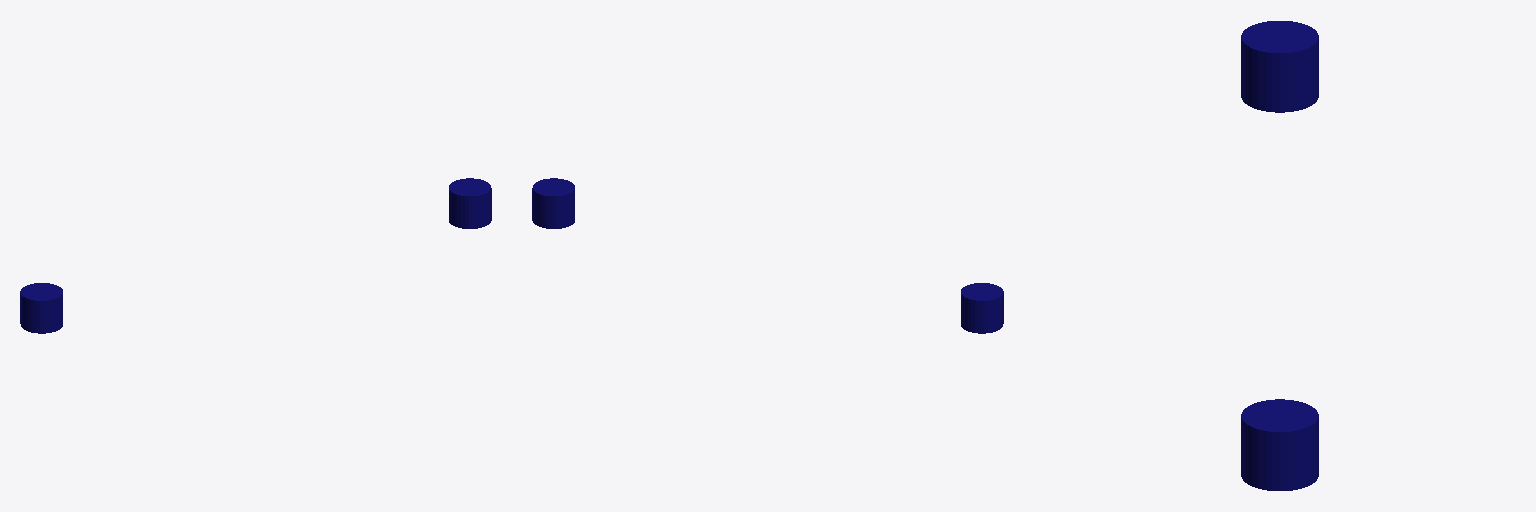
The robot description file, URDF, robot "lexus_rx_450h":
<?xml version="1.0" ?>
<!-- TODO: Add GPS sensor -->
<robot name="lexus_rx_450h">
  <material name="black">
    <color rgba="0.2 0.2 0.2 1"/>
  </material>
  <material name="blue">
    <color rgba="0.1 0.1 0.5 1"/>
  </material>

  <!-- base_link relates to its projection on the ground by this offset:
    <origin xyz="0 0 0.31" rpy="0 0 0"/>
  -->


  <link name="base_link">
    <visual>
      <geometry>
        <mesh filename="package://lexus_rx_450h_description/meshes/LexusRX.obj" scale="0.001 0.001 0.001"/>
      </geometry>
      <material name="black"/>
      <origin xyz="0.83 0 0.31" rpy="0 0 1.570796"/>
    </visual>
    <collision>
      <geometry>
        <box size="5.5 2.25 2"/>
      </geometry>
      <origin xyz="0.83 0 0.31" rpy="0 0 0"/>
    </collision>
    <inertial>
      <!-- TODO: Get or calculate inertia values -->
      <origin xyz="0 0 0.013" rpy="0 0 0"/>
      <mass value="0.25"/>
      <inertia ixx="0.0003350833" ixy="0" ixz="0"
        iyy="0.000560417" iyz="0"
        izz="0.000478833"/>
    </inertial>
  </link>

  <!-- Center of Gravity link -->
  <link name="nav_base">
  </link>

  <joint name="nav_base_joint" type="fixed">
    <parent link="base_link"/>
    <child link="nav_base"/>
    <origin xyz="1.5618 0 0" rpy="0 0 0"/>
  </joint>

  <link name="lidar_front">
    <visual>
      <geometry>
        <cylinder length="0.0869" radius="0.05165"/>
      </geometry>
      <material name="blue"/>
    </visual>
    <collision>
      <geometry>
        <cylinder length="0.0869" radius="0.05165"/>
      </geometry>
    </collision>
    <inertial>
      <!-- TODO: Get or calculate inertia values -->
      <mass value="0.1"/>
      <inertia ixx="1.02083e-5" ixy="0" ixz="0"
        iyy="1.02083e-5" iyz="0"
        izz="2e-5"/>
    </inertial>
  </link>

  <joint name="lidar_front_joint" type="fixed">
    <parent link="base_link"/>
    <child link="lidar_front"/>
    <origin xyz="1.498 -0.022 1.49" rpy="0 0 0"/>
  </joint>

  <link name="lidar_rear">
    <visual>
      <geometry>
        <cylinder length="0.0869" radius="0.05165"/>
      </geometry>
      <material name="blue"/>
    </visual>
    <collision>
      <geometry>
        <cylinder length="0.0869" radius="0.05165"/>
      </geometry>
    </collision>
    <inertial>
      <!-- TODO: Get or calculate inertia values -->
      <mass value="0.1"/>
      <inertia ixx="1.02083e-5" ixy="0" ixz="0"
        iyy="1.02083e-5" iyz="0"
        izz="2e-5"/>
    </inertial>
  </link>

  <joint name="lidar_rear_joint" type="fixed">
    <parent link="base_link"/>
    <child link="lidar_rear"/>
    <origin xyz="0.308 -0.022 1.49" rpy="0 0 0"/>
  </joint>
</robot>

--- Render facts (derived) ---
The picture shows the robot from 3 angles, left to right: view 1: azimuth 30°, elevation 25°; view 2: azimuth 150°, elevation 25°; view 3: azimuth 270°, elevation 25°; orthographic projection.
Robot: lexus_rx_450h — 4 links, 3 joints (3 fixed); root link base_link; default pose: every joint at zero.
Links seen in each view (by area): view 1: lidar_front, lidar_rear; view 2: lidar_front, lidar_rear; view 3: lidar_front, lidar_rear.
Link boxes in pixels (x1,y1,x2,y2): lidar_front: (449,178,491,228); lidar_rear: (20,283,62,333); lidar_front: (532,178,574,228); lidar_rear: (961,283,1003,333); lidar_front: (1241,399,1318,490); lidar_rear: (1241,21,1318,112).
Bounding box of the posed robot: 1.29 × 0.1033 × 0.0869 m (x, y, z).
Meshes: 1 distinct files referenced, 0 mesh visuals loaded (none loaded); not drawn: 1 (reference not matched to a file when rendering).
